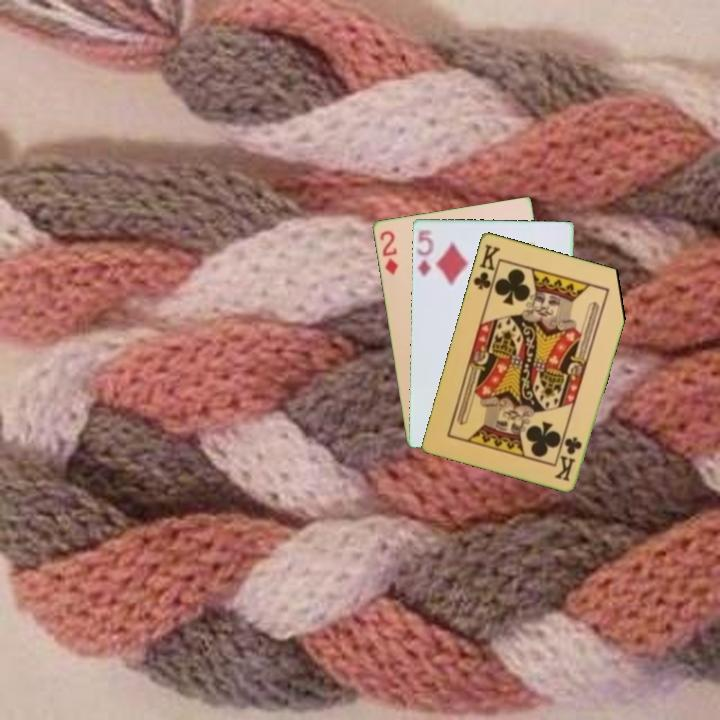2d: (376, 227, 401, 277)
5d: (413, 225, 436, 279)
Kc: (470, 240, 503, 297), (552, 433, 585, 484)
